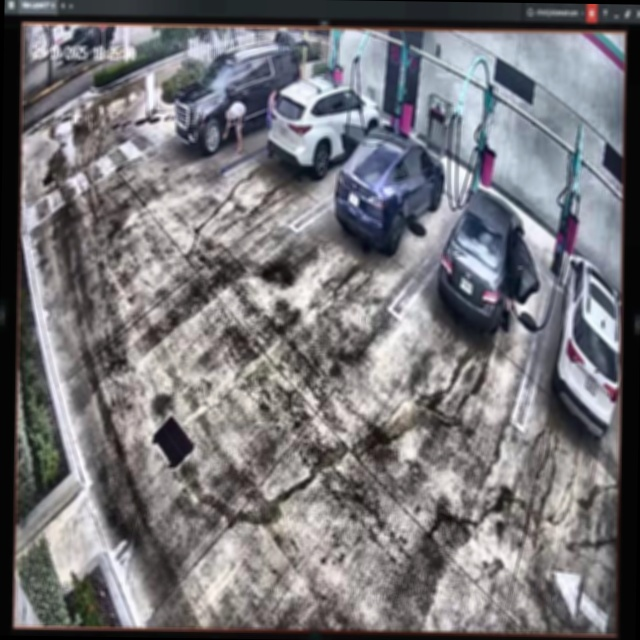Car: (438, 186, 542, 336), (335, 124, 446, 249), (268, 81, 381, 176)
